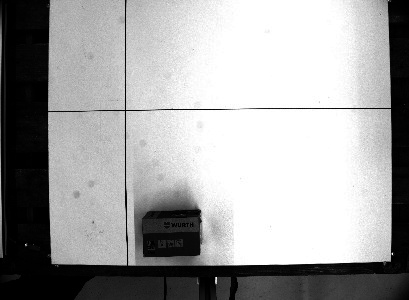b4: (139, 206, 203, 259)
